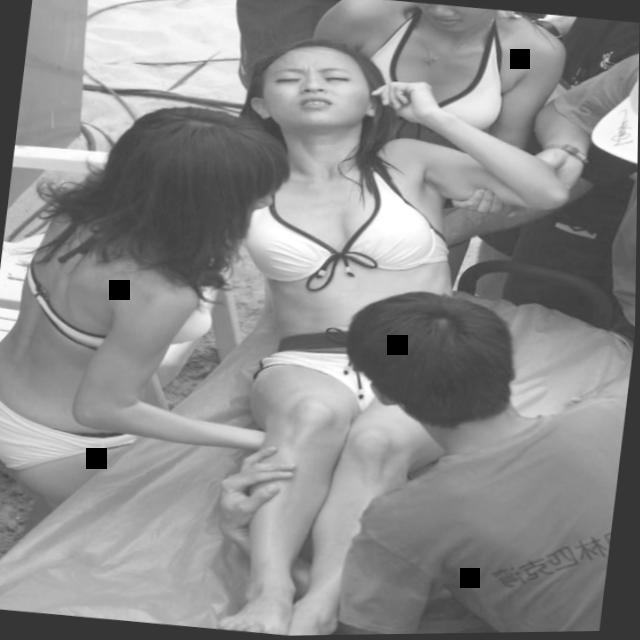Fall-Detected: (181, 26, 531, 638)
